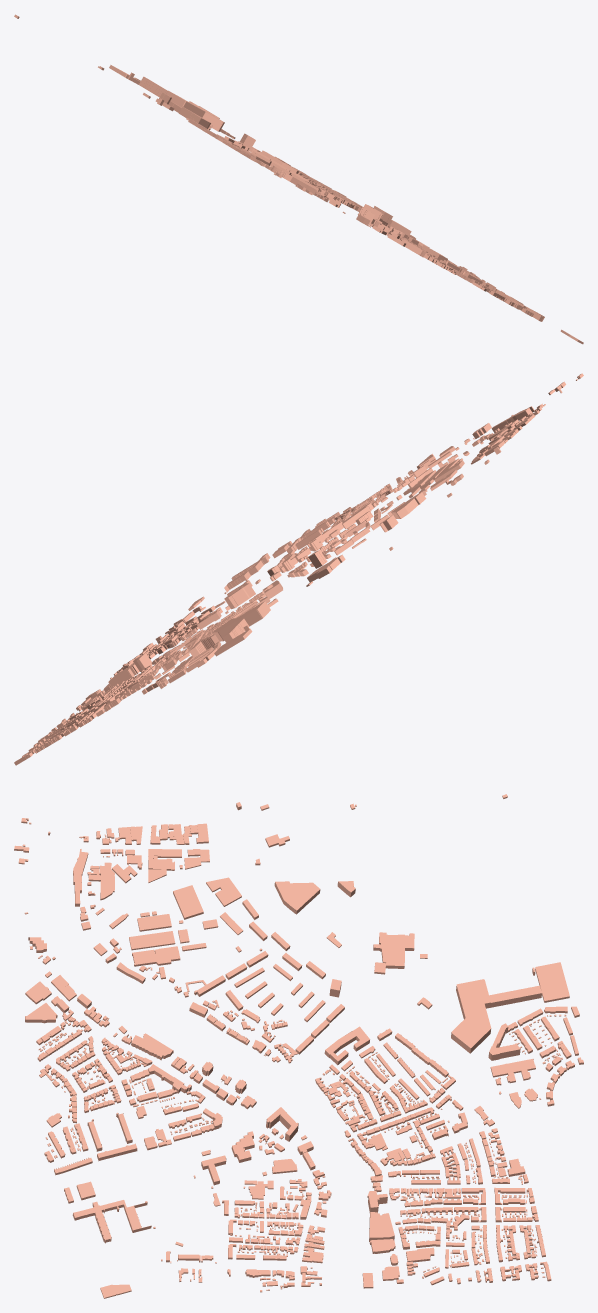
3 views of the same model, one above another, from view 1: azimuth 30°, elevation 25°; view 2: azimuth 150°, elevation 25°; view 3: azimuth 270°, elevation 25° (orthographic). The views are drawn at different scales.
Bounding box in the file's own units: 1041 × 749 × 1253.
